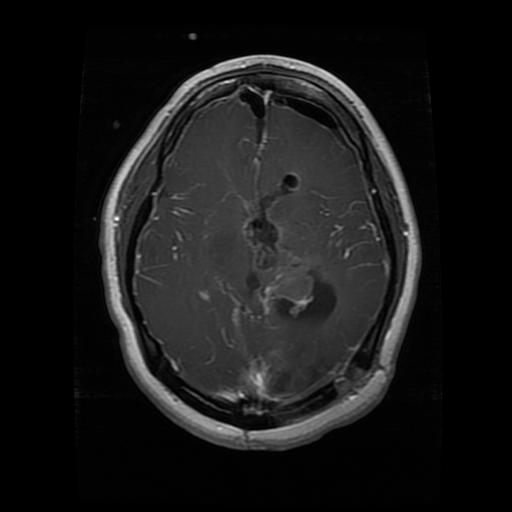Gliomia_tumour: (234, 171, 339, 325)
